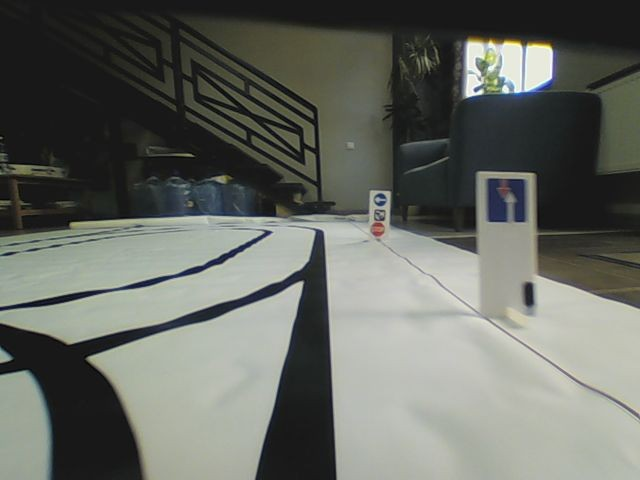priority_movement: (484, 176, 528, 223)
